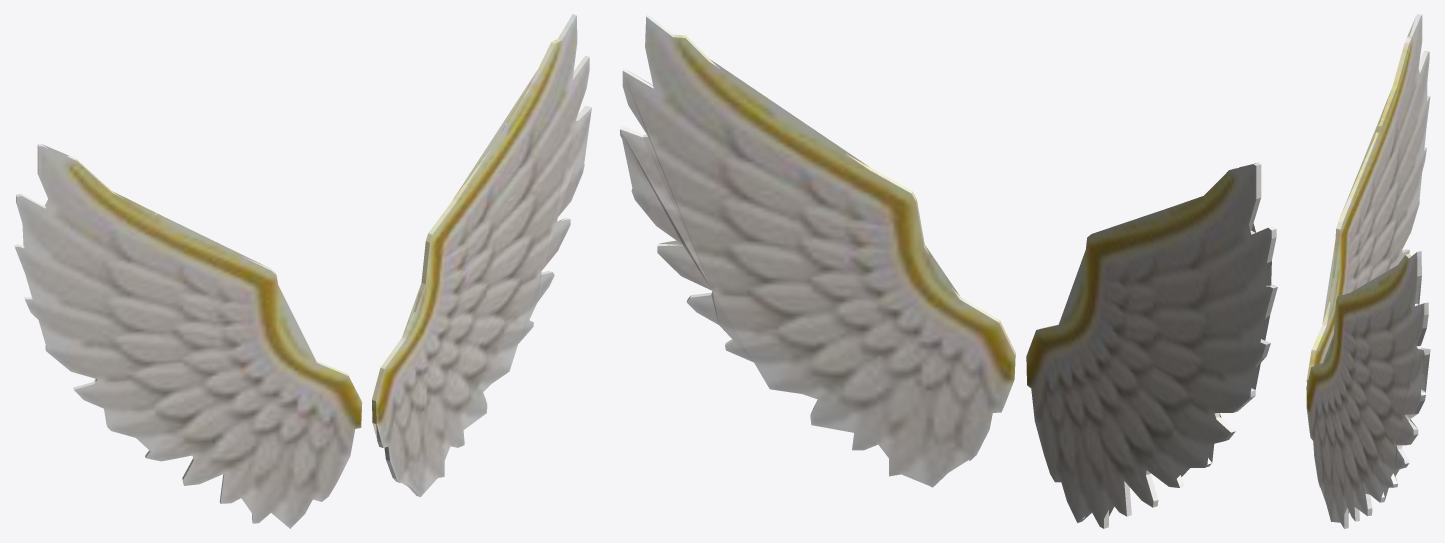
The model's file is back_angel.glb.
3 renders of one model, left to right at view 1: azimuth 30°, elevation 25°; view 2: azimuth 150°, elevation 25°; view 3: azimuth 270°, elevation 25°, orthographic. The views are drawn at different scales.
Parts seen in each view (by area): view 1: back_angel_q; view 2: back_angel_q; view 3: back_angel_q.
Part boxes in pixels (x1=…): back_angel_q: x1=14, y1=14, x2=591, y2=528; back_angel_q: x1=620, y1=14, x2=1277, y2=528; back_angel_q: x1=1306, y1=14, x2=1430, y2=528.
Bounding box in the file's own units: 6.17 × 4.07 × 1.27.
1 material, 1 textured.
